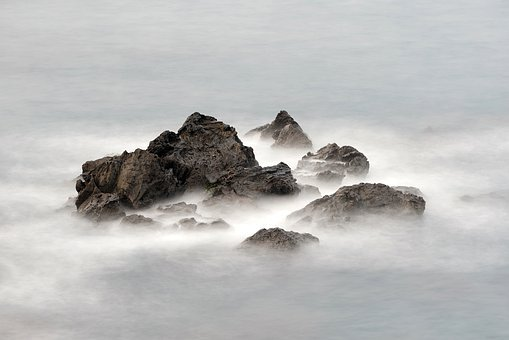stone: (64, 120, 433, 258)
